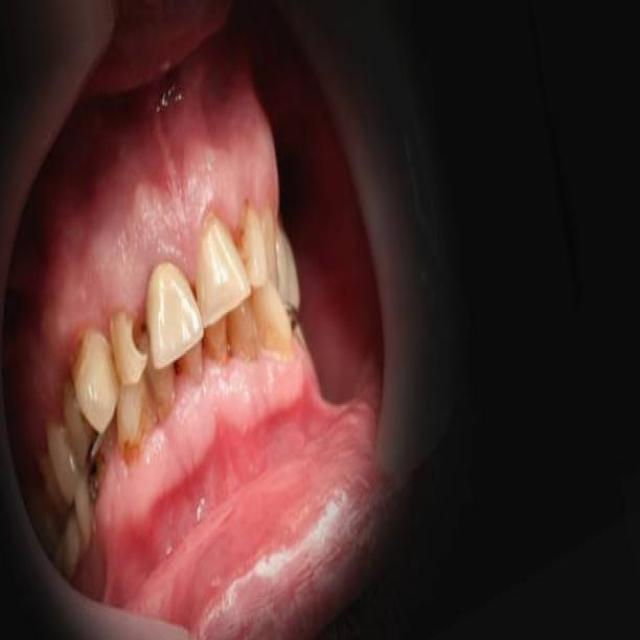caries: (121, 305, 158, 373), (230, 195, 256, 254), (82, 444, 107, 504), (63, 327, 88, 377), (116, 434, 145, 472), (285, 302, 307, 347)
